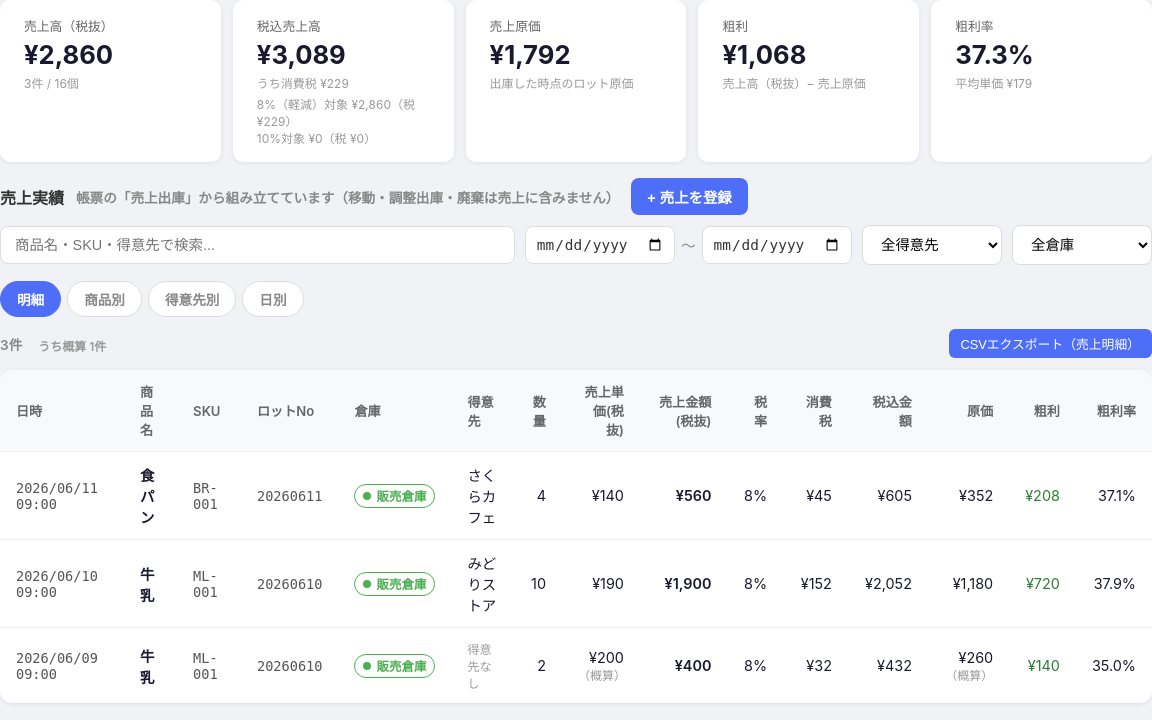
SalesView — 売上登録 › 登録後に売上金額と粗利を知らせる
Click the button "+ 売上を登録".
click(690, 196)  # box x1=631 y1=178 x2=748 y2=215
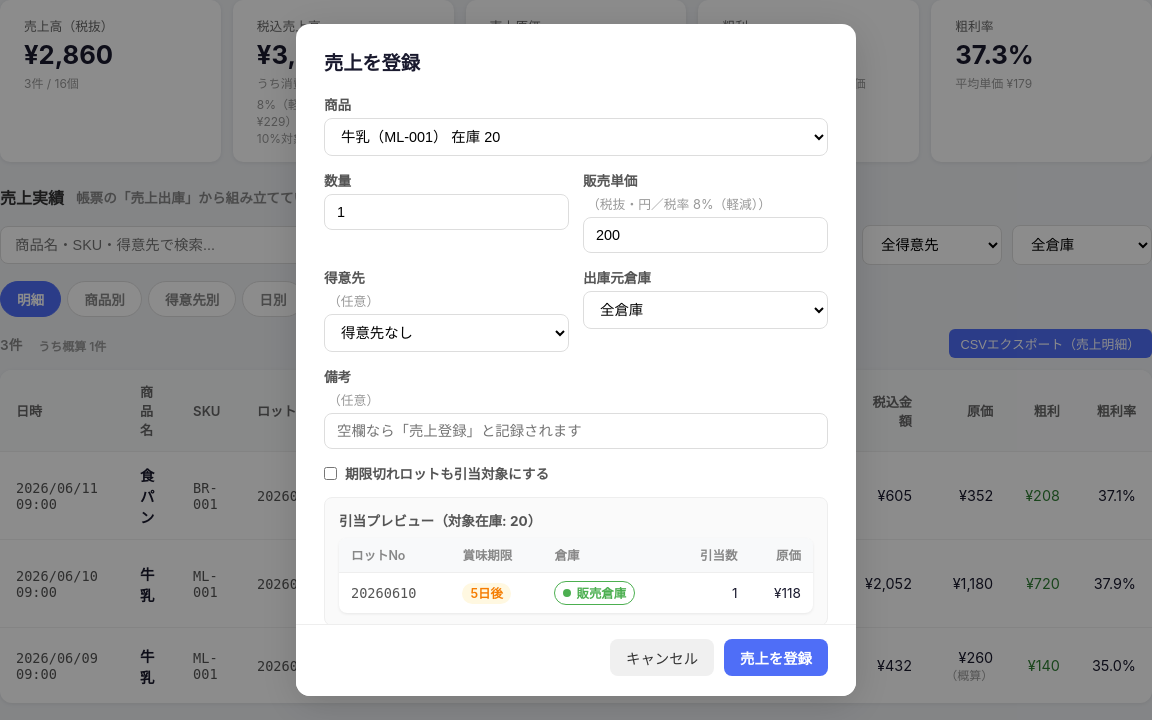
Replace the text in the number field labelled "数量" with "3" at [446, 212], box x1=324 y1=194 x2=569 y2=230
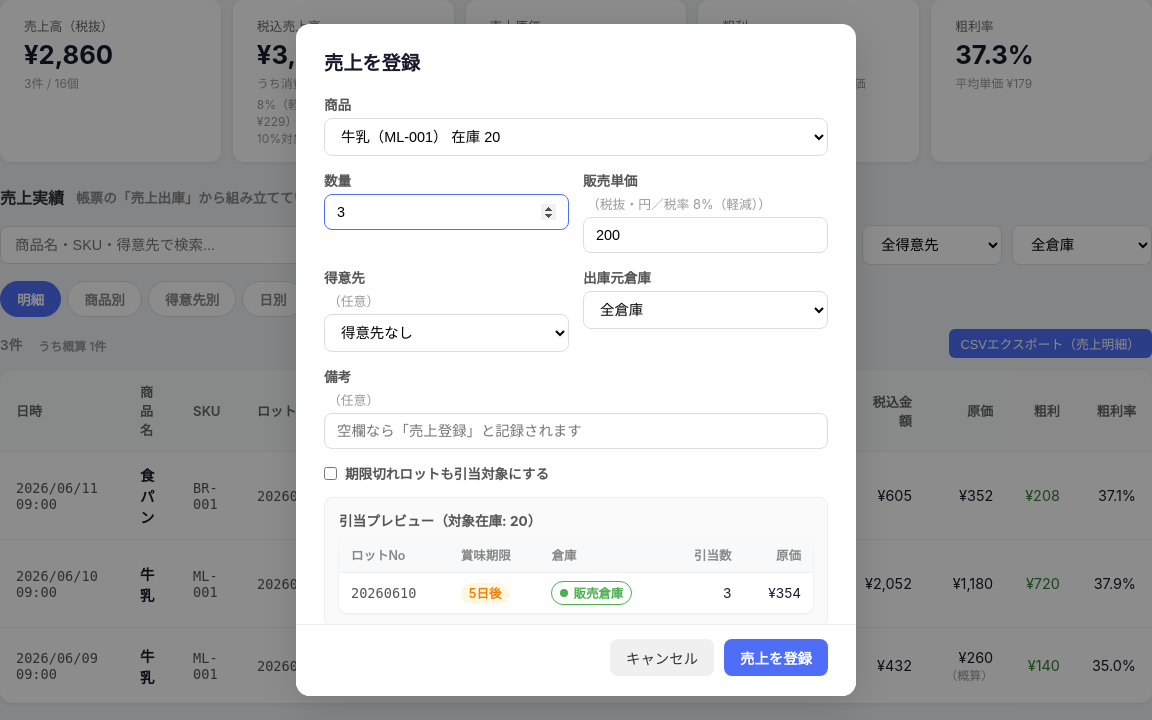
Click the button "売上を登録".
click(776, 658)  # box x1=724 y1=639 x2=828 y2=676
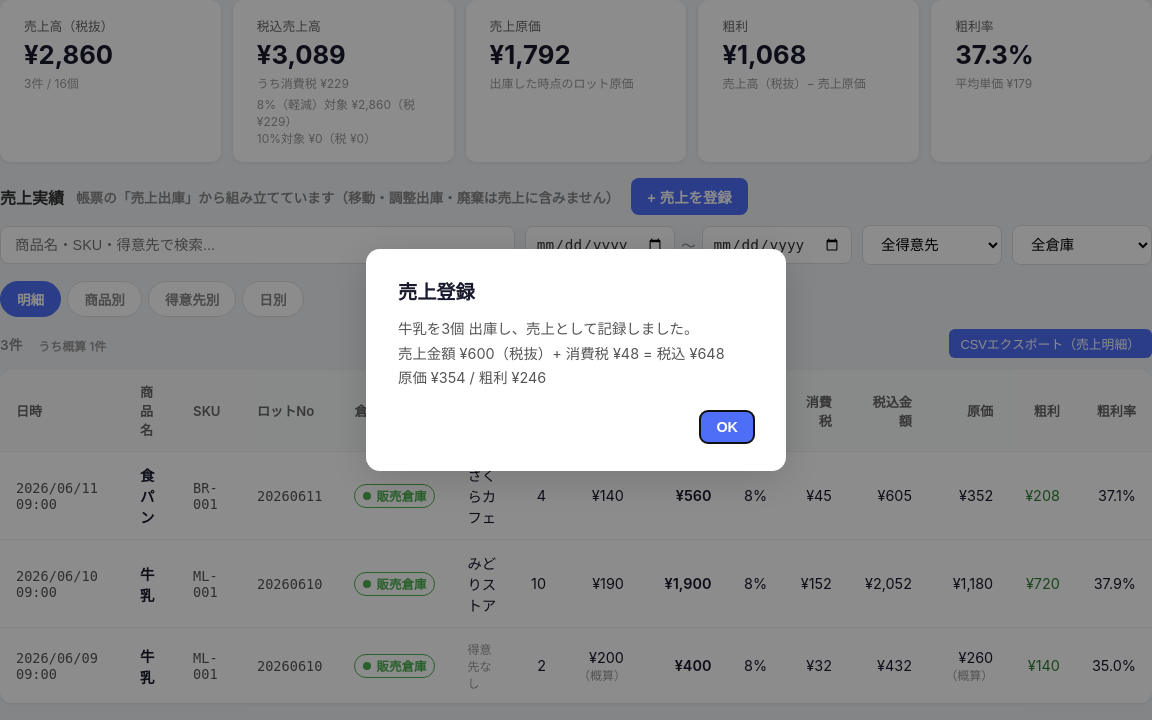
Check: the text "原価 ¥354 / 粗利 ¥246" is shown, box x1=398 y1=320 x2=724 y2=386
